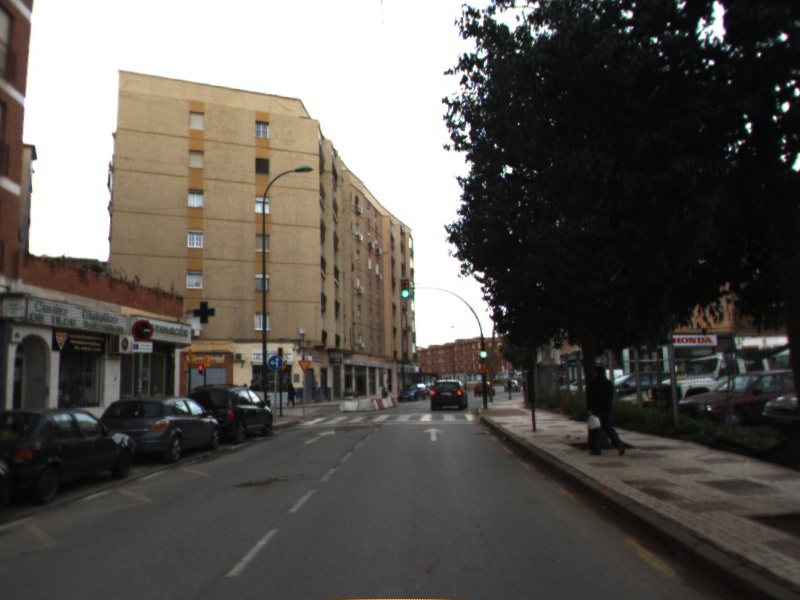STRAIGHT: (301, 426, 338, 446), (421, 426, 447, 443)
